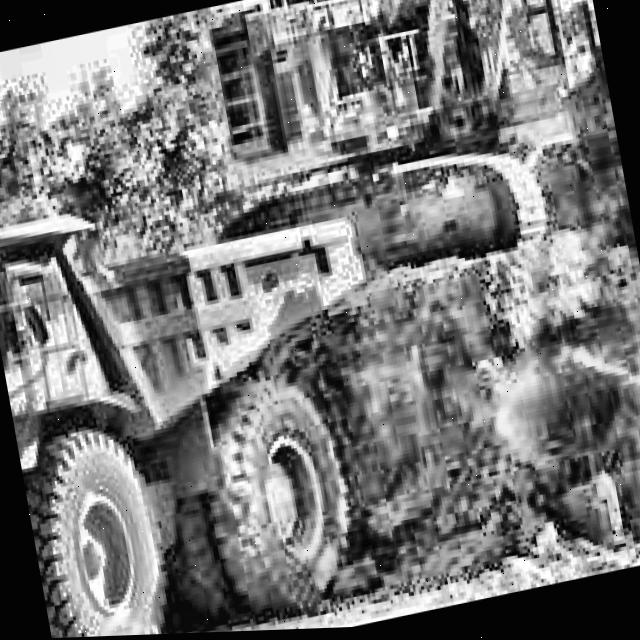dump_truck: (0, 81, 433, 640)
excavator: (183, 0, 640, 402)
